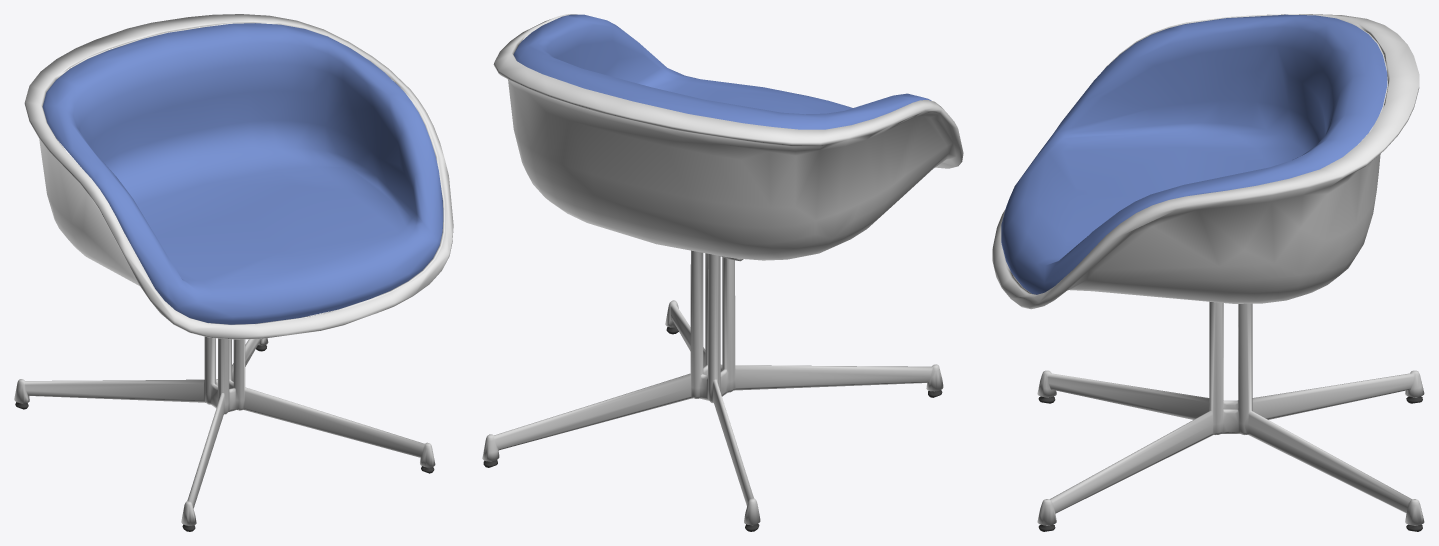
File: sh-scopia-modern-armchair.glb
The picture shows the model from 3 angles, left to right: view 1: azimuth 30°, elevation 25°; view 2: azimuth 150°, elevation 25°; view 3: azimuth 270°, elevation 25°; orthographic projection. The views are drawn at different scales.
Visible parts, largest first — view 1: seat_Plane, legs_Cylinder; view 2: seat_Plane, legs_Cylinder; view 3: seat_Plane, legs_Cylinder.
Part boxes in pixels (x1,y1,x2,y2): seat_Plane: [24, 14, 453, 339]; legs_Cylinder: [14, 336, 435, 531]; seat_Plane: [493, 14, 963, 260]; legs_Cylinder: [482, 250, 943, 531]; seat_Plane: [992, 14, 1419, 309]; legs_Cylinder: [1037, 301, 1424, 531].
Size of the model in its own units: 0.9975 by 0.9998 by 0.9995.
